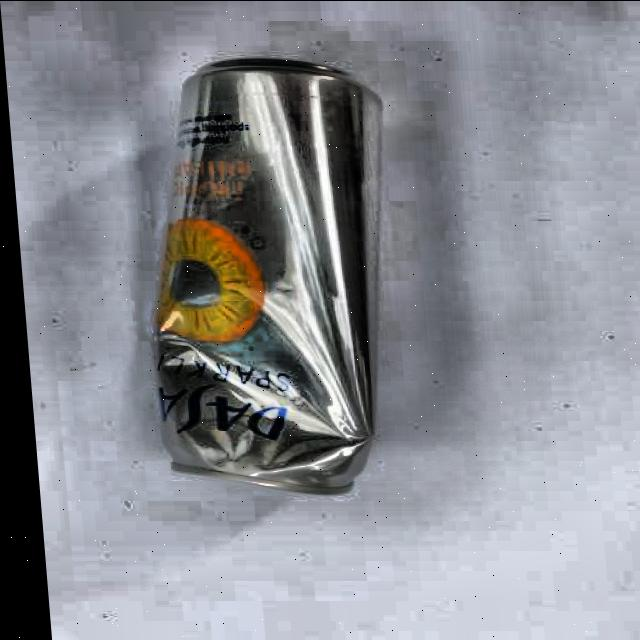metal: (127, 57, 420, 494)
